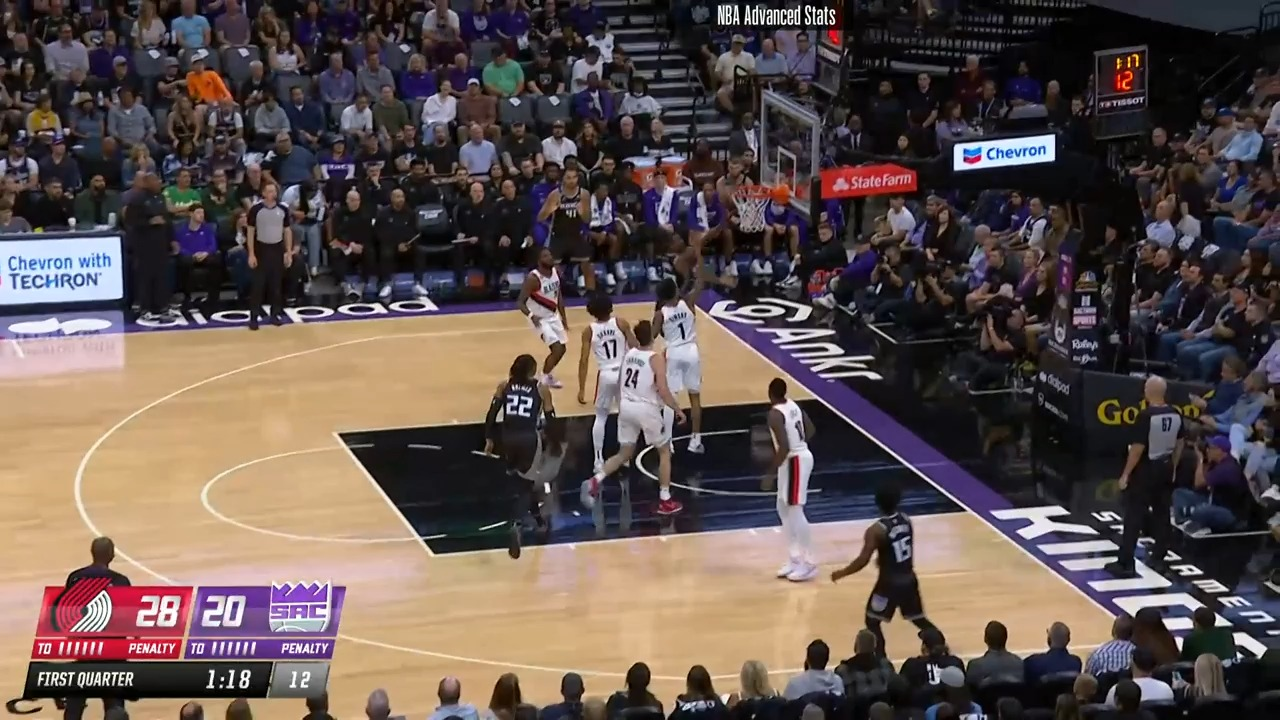net: (720, 177, 790, 237)
player: (828, 480, 950, 659), (597, 316, 687, 521), (746, 376, 820, 586), (477, 354, 553, 536), (575, 293, 637, 494), (653, 271, 717, 456), (513, 245, 577, 397), (534, 164, 597, 304), (669, 217, 724, 292)
referee: (1109, 373, 1189, 584), (241, 176, 304, 337)
